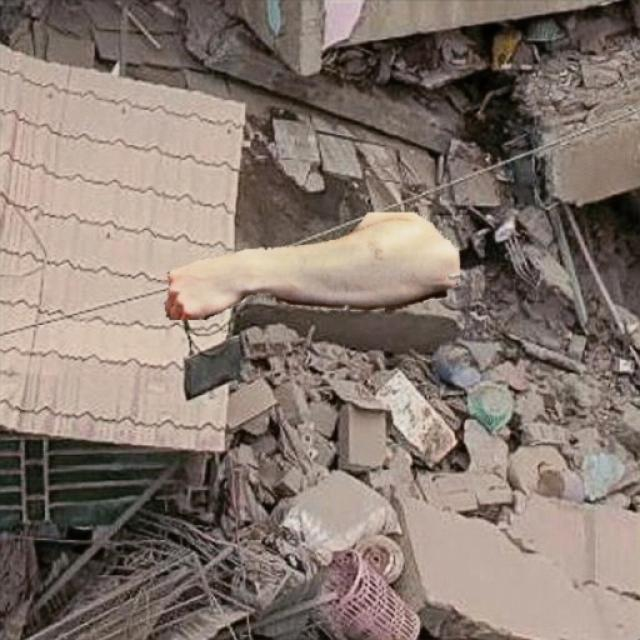Person in Rubble: (164, 212, 458, 318)
